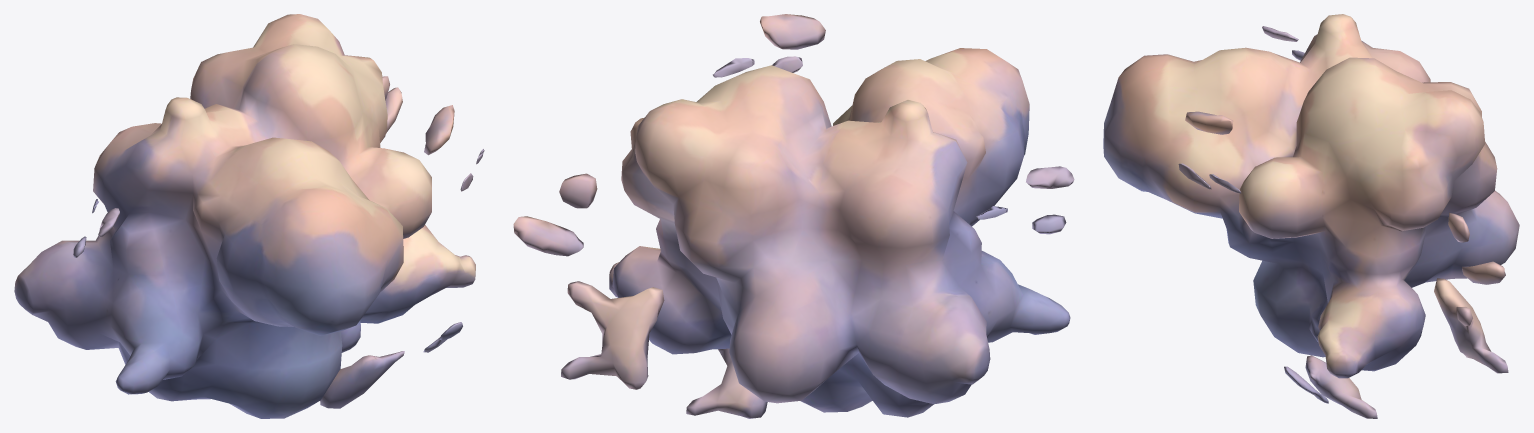
File: SM_Cloud_02.fbx
3 views of the same model, side by side, from view 1: azimuth 30°, elevation 25°; view 2: azimuth 150°, elevation 25°; view 3: azimuth 270°, elevation 25° (orthographic). The views are drawn at different scales.
Parts seen in each view (by area): view 1: SM_Cloud_02; view 2: SM_Cloud_02; view 3: SM_Cloud_02.
Part boxes in pixels (<box>): SM_Cloud_02: <box>14,14,484,418</box>; SM_Cloud_02: <box>513,14,1074,418</box>; SM_Cloud_02: <box>1103,14,1519,418</box>.
Size of the model in its own units: 103 by 80.46 by 92.6.
Materials: 1 (1 with a texture image).
